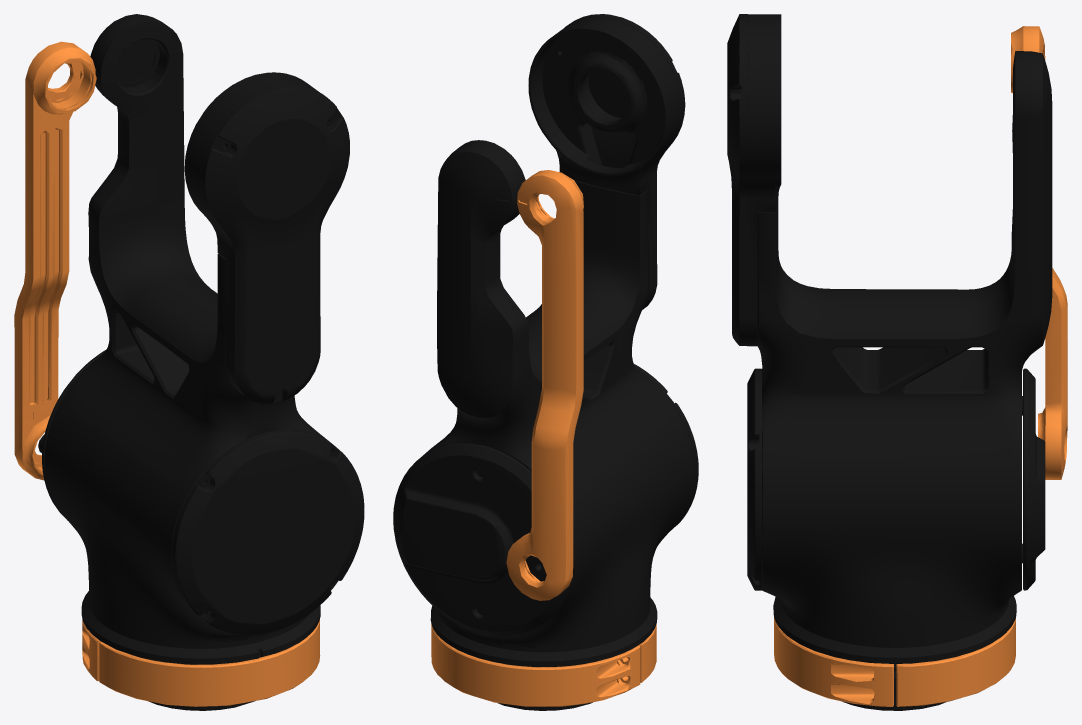
The model's file is right_arm_link5.dae.
3 views of the same model, side by side, from view 1: azimuth 30°, elevation 25°; view 2: azimuth 150°, elevation 25°; view 3: azimuth 270°, elevation 25° (orthographic). The views are drawn at different scales.
Visible parts, largest first — view 1: geom3, geom2, geom0, geom1; view 2: geom3, geom0, geom1, geom2; view 3: geom3, geom0, geom1, geom2.
Boxes of the visible parts, x1,y1,x2,y2 form: geom3: (38, 14, 349, 710); geom2: (172, 429, 364, 635); geom0: (14, 41, 320, 706); geom1: (42, 350, 105, 520); geom3: (423, 14, 695, 710); geom0: (431, 170, 656, 706); geom1: (393, 443, 571, 636); geom2: (634, 364, 698, 529); geom3: (727, 14, 1052, 710); geom0: (774, 26, 1067, 706); geom1: (1022, 368, 1045, 590); geom2: (747, 368, 761, 590).
Bounding box in the file's own units: 0.0992 × 0.138 × 0.2938.
